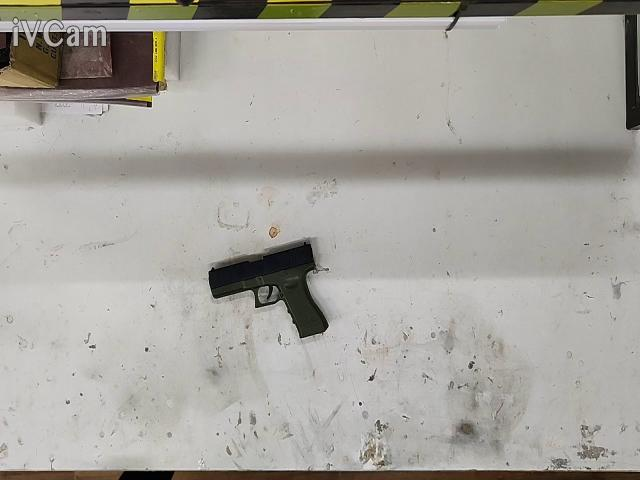Gun: (209, 242, 329, 338)
